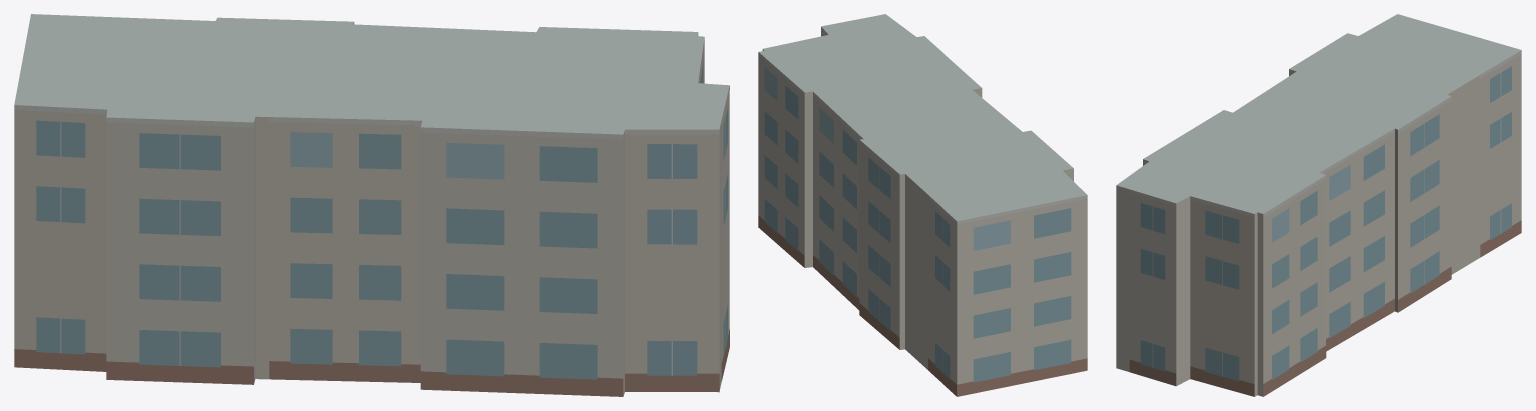
File: survey-upis-32768429.glb
3 renders of one model, left to right at view 1: azimuth 30°, elevation 25°; view 2: azimuth 150°, elevation 25°; view 3: azimuth 270°, elevation 25°, orthographic. The views are drawn at different scales.
Visible parts, largest first — view 1: survey-upis-32768429.tmp; view 2: survey-upis-32768429.tmp; view 3: survey-upis-32768429.tmp.
Boxes of the visible parts, x1,y1,x2,y2 form: survey-upis-32768429.tmp: [14, 14, 729, 396]; survey-upis-32768429.tmp: [758, 14, 1087, 396]; survey-upis-32768429.tmp: [1116, 14, 1521, 396].
Size of the model in its own units: 29.79 by 12.7 by 25.52.
